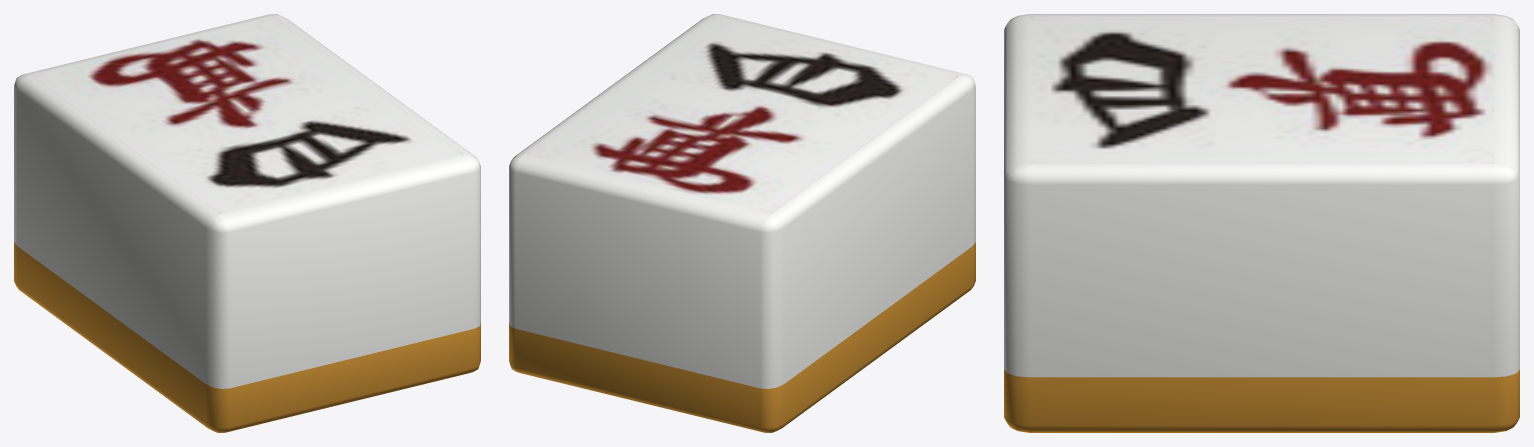
3 renders of one model, left to right at view 1: azimuth 30°, elevation 25°; view 2: azimuth 150°, elevation 25°; view 3: azimuth 270°, elevation 25°, orthographic. The views are drawn at different scales.
Visible parts, largest first — view 1: hai; view 2: hai; view 3: hai.
Boxes of the visible parts, x1,y1,x2,y2 form: hai: [14, 14, 480, 432]; hai: [509, 14, 975, 432]; hai: [1004, 14, 1519, 432].
Bounding box in the file's own units: 420 × 320 × 560.
Materials: 3 (1 with a texture image).
